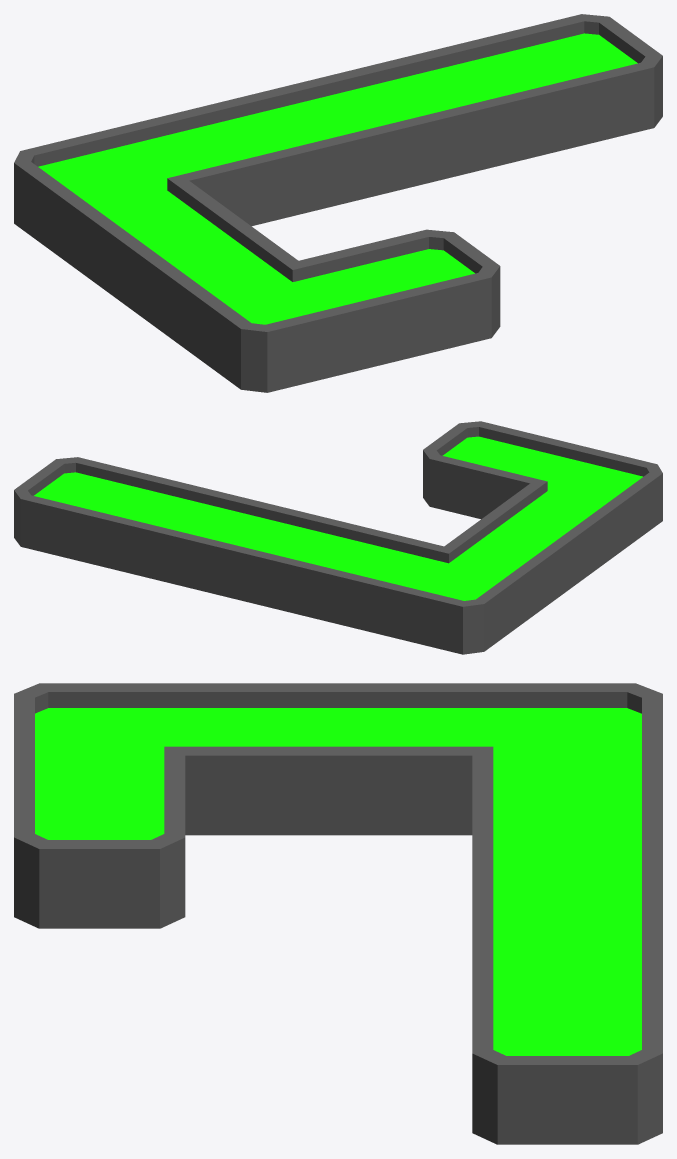
Rendered from Japanese_3D_02_し.FBX.
3 views of the same model, one above another, from view 1: azimuth 30°, elevation 25°; view 2: azimuth 150°, elevation 25°; view 3: azimuth 270°, elevation 25° (orthographic). The views are drawn at different scales.
Parts seen in each view (by area): view 1: Japanese_3D_02_し; view 2: Japanese_3D_02_し; view 3: Japanese_3D_02_し.
Part boxes in pixels (<box>): Japanese_3D_02_し: <box>14,14,662,392</box>; Japanese_3D_02_し: <box>14,421,662,654</box>; Japanese_3D_02_し: <box>14,683,662,1144</box>.
Bounding box in the file's own units: 77.02 × 7.5 × 55.31.
